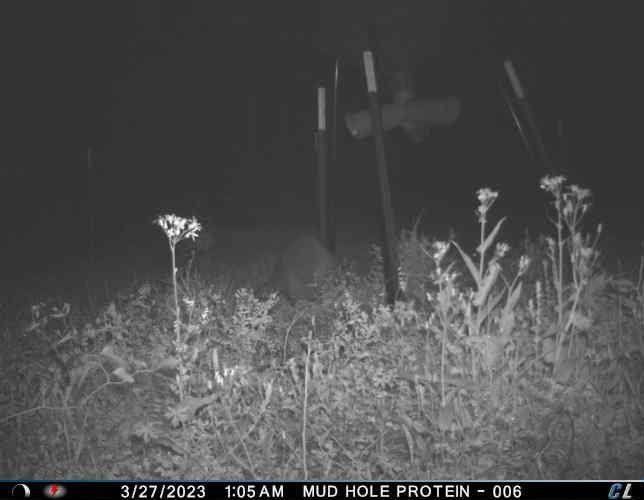Raccoon: (254, 235, 344, 307)
